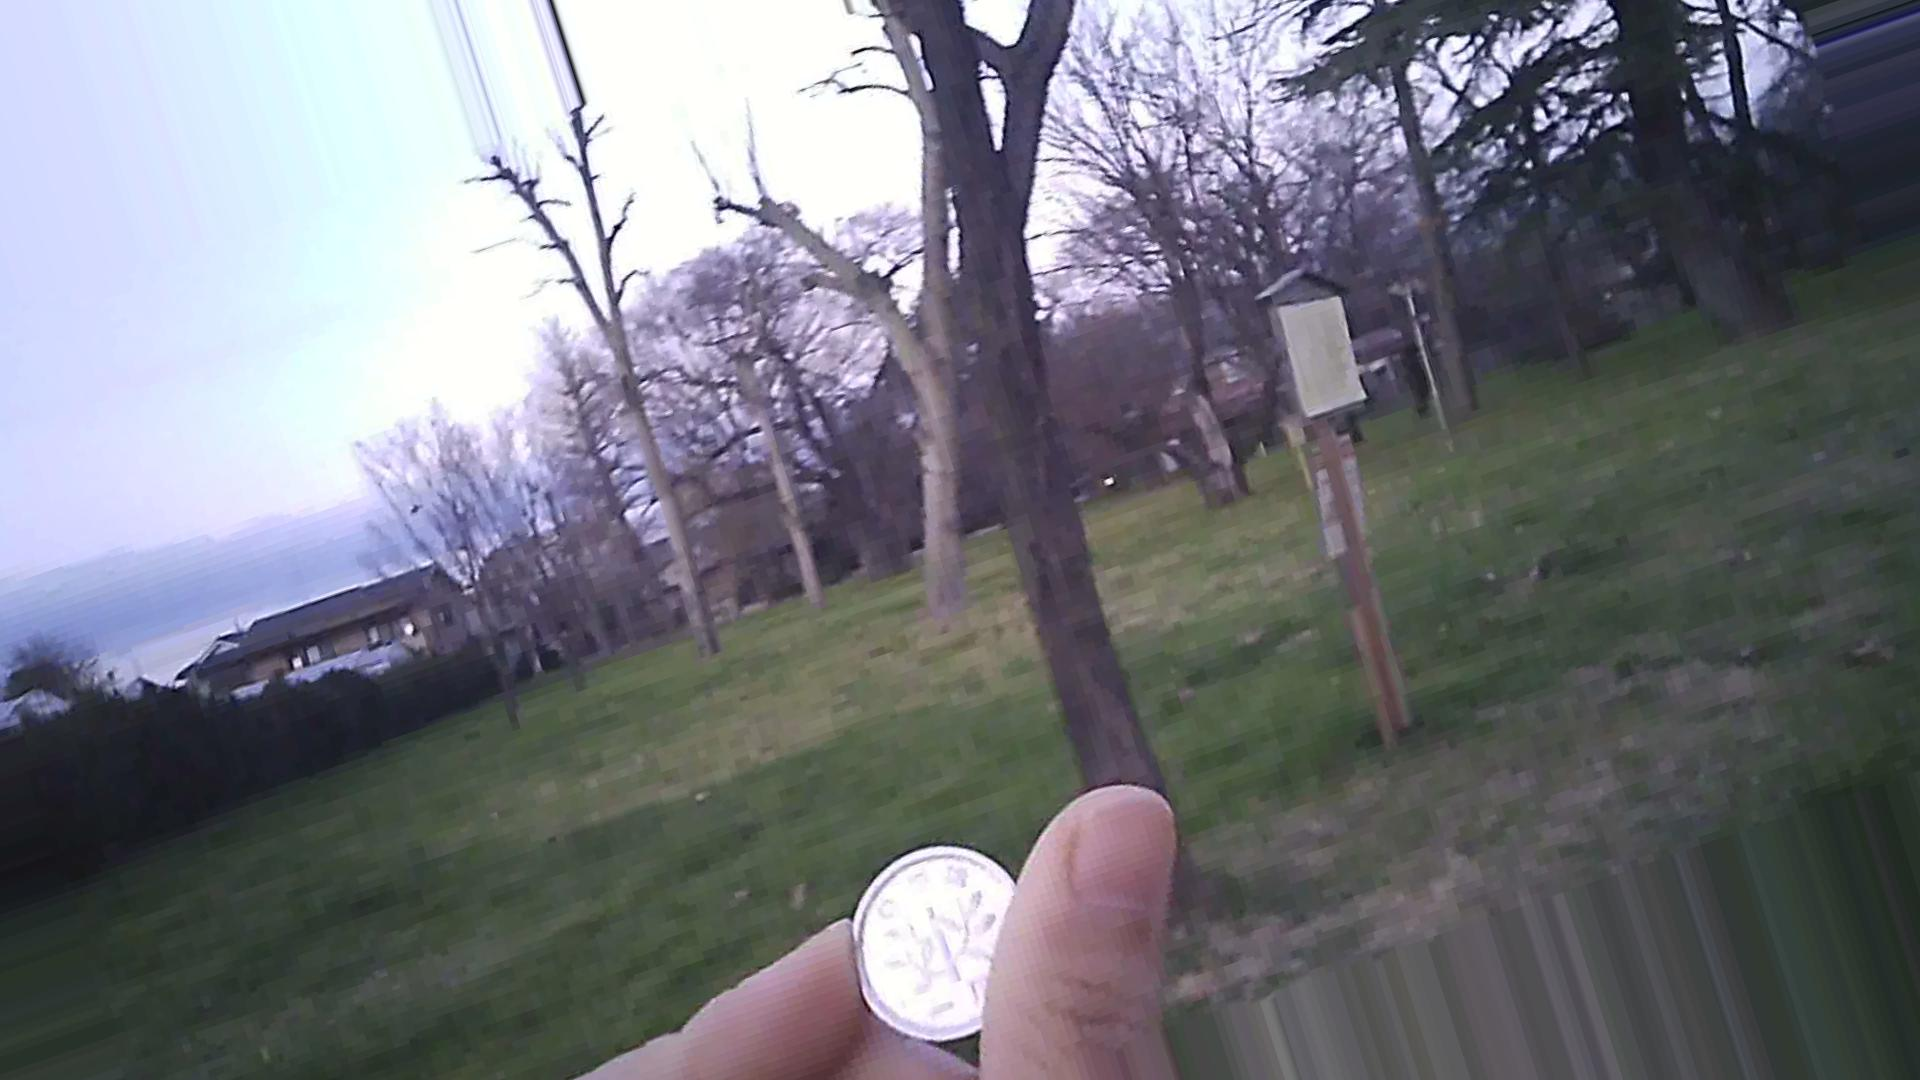1 Yen: (849, 833, 1051, 1051)
